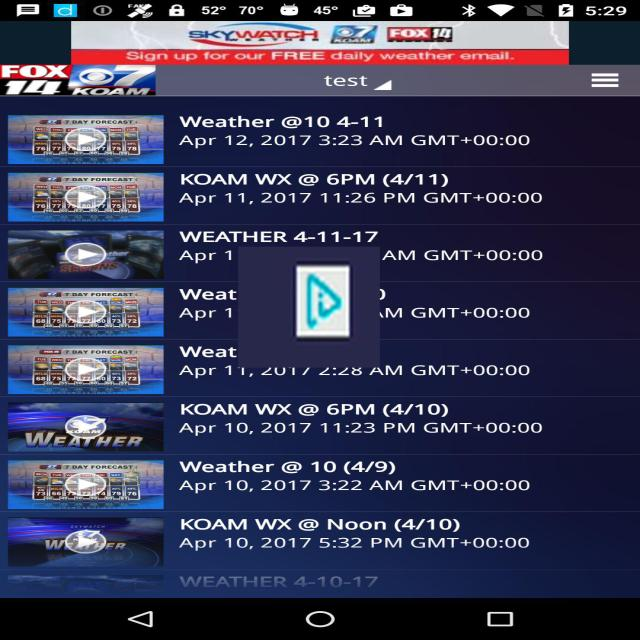sneaking: (238, 246, 380, 368)
